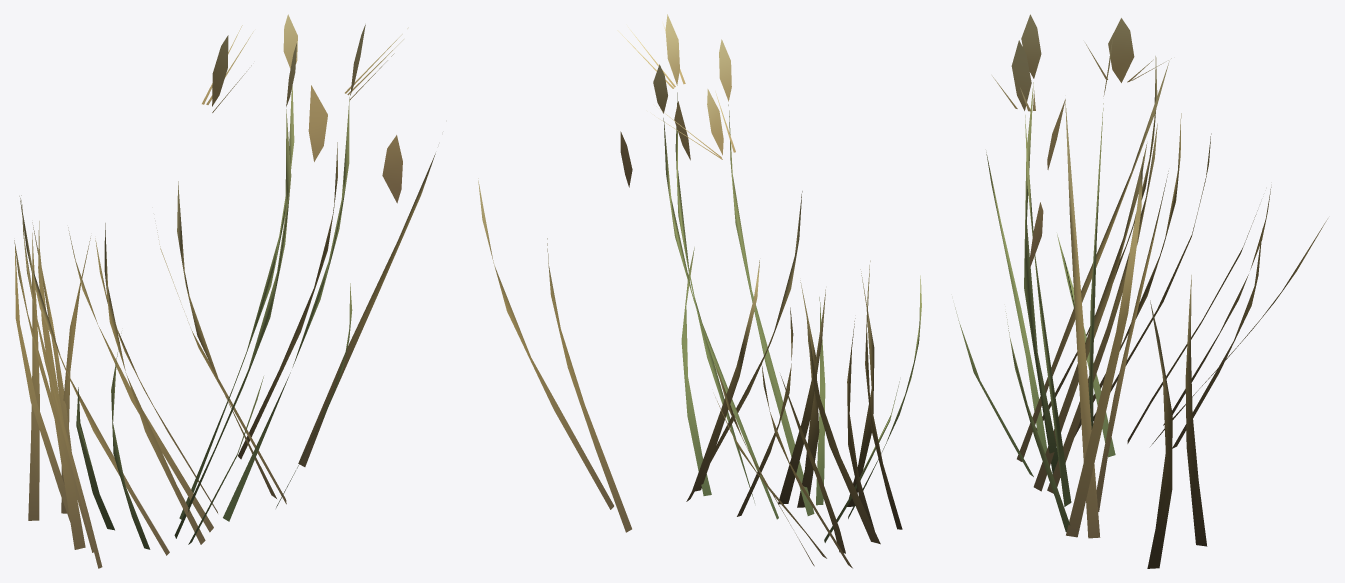
The model's file is DryPrairieClump_LOD0.glb.
3 renders of one model, left to right at view 1: azimuth 30°, elevation 25°; view 2: azimuth 150°, elevation 25°; view 3: azimuth 270°, elevation 25°, orthographic. The views are drawn at different scales.
Parts seen in each view (by area): view 1: DryPrairieClump_LOD0; view 2: DryPrairieClump_LOD0; view 3: DryPrairieClump_LOD0.
Boxes of the visible parts, x1,y1,x2,y2 form: DryPrairieClump_LOD0: [14, 14, 435, 568]; DryPrairieClump_LOD0: [478, 14, 921, 568]; DryPrairieClump_LOD0: [955, 14, 1327, 568].
Bounding box in the file's own units: 0.4084 × 0.4475 × 0.2899.
